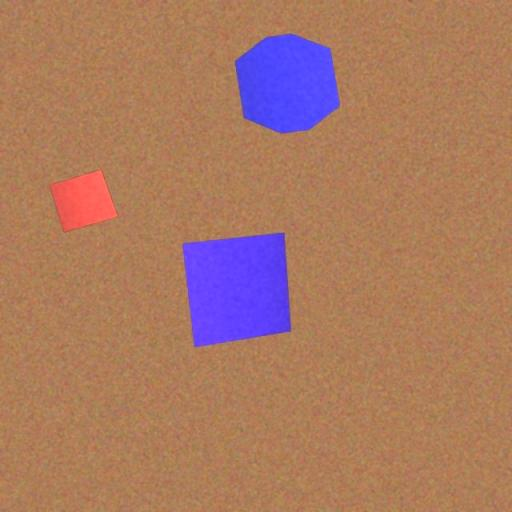BLUE_SQUARE: (182, 232, 292, 347)
RED_SQUARE: (49, 168, 118, 234)
